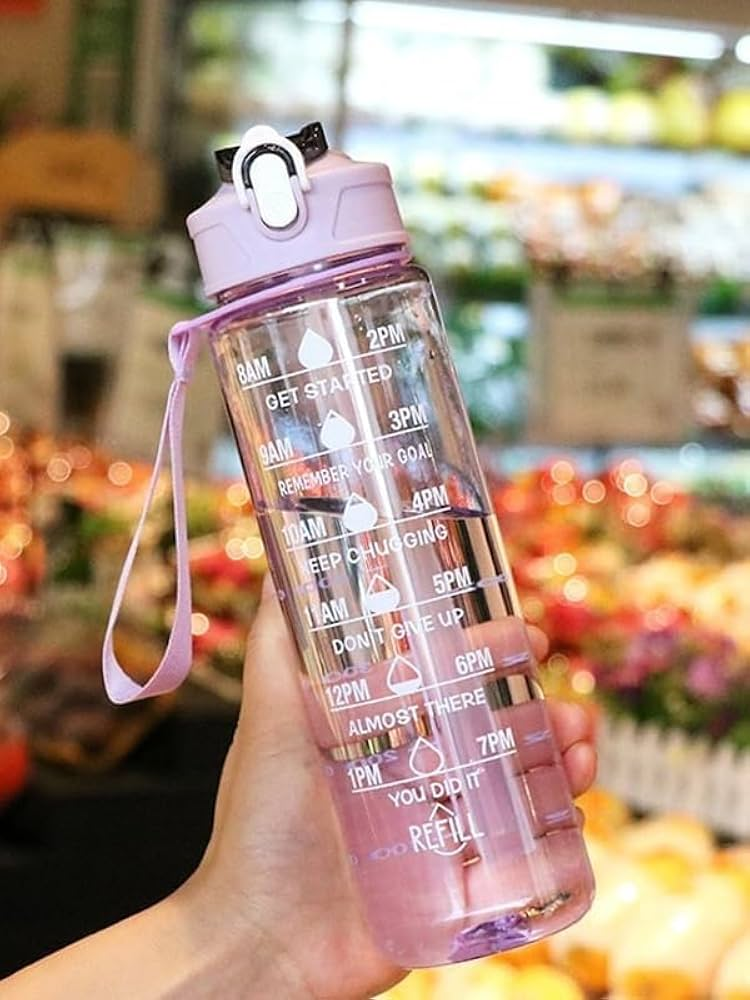bottle: (172, 154, 596, 962)
